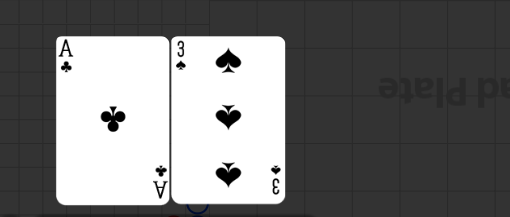3S: (269, 163, 282, 196)
AC: (59, 39, 76, 78)
